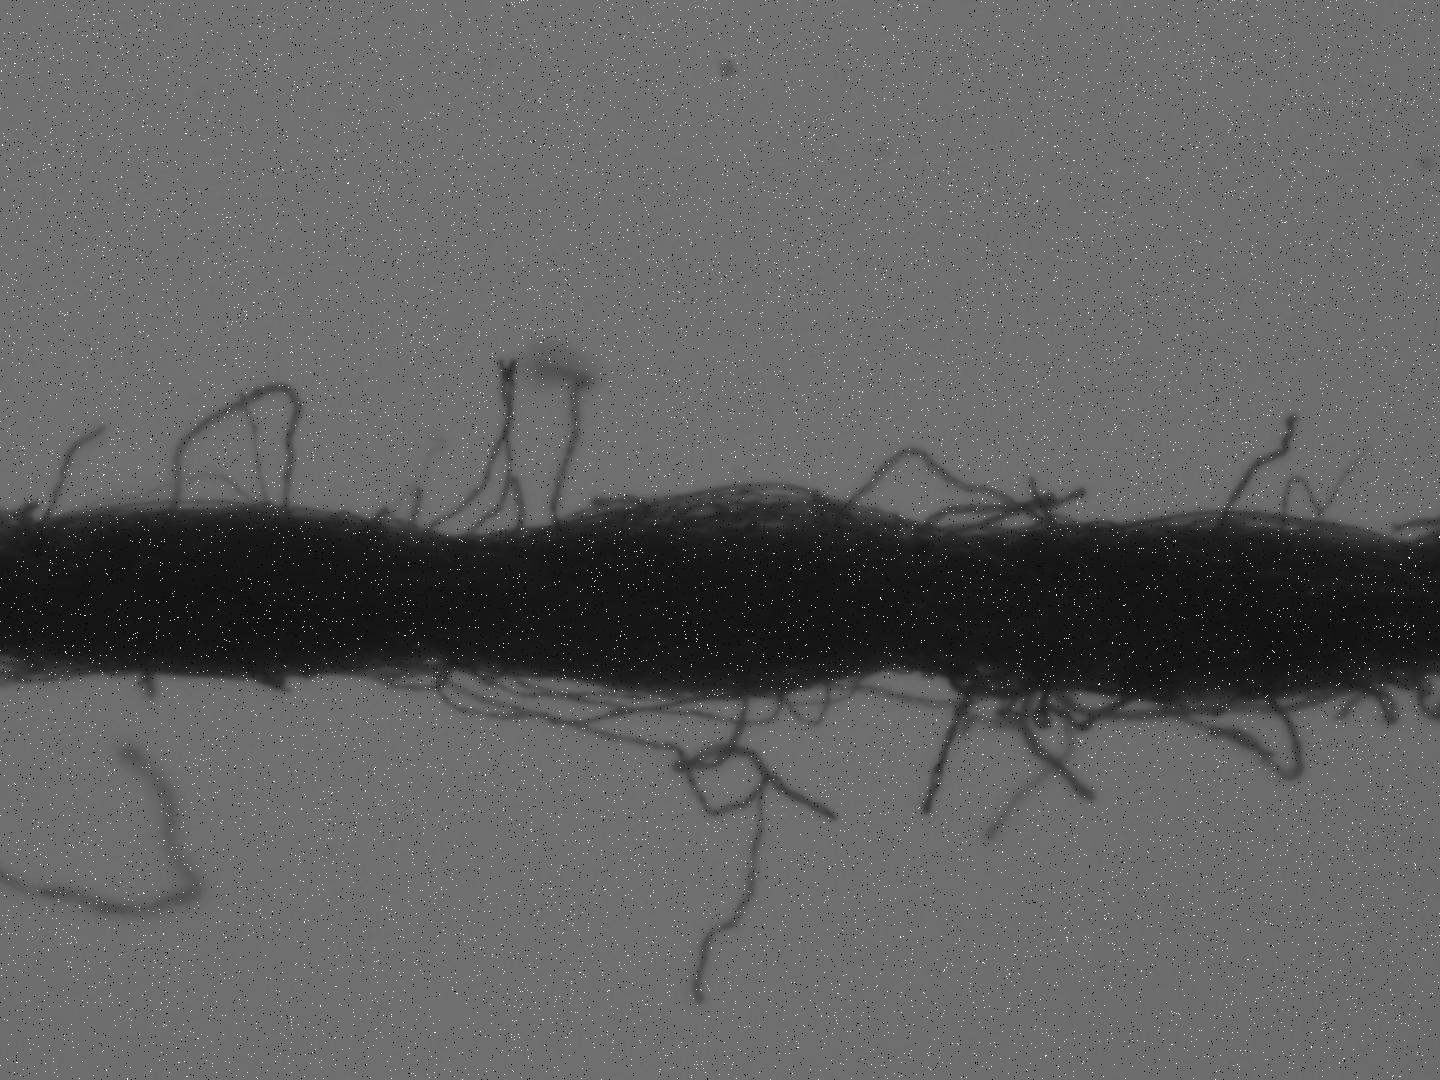loop_fiber: (815, 444, 1077, 545), (153, 379, 305, 526), (434, 665, 763, 729), (543, 486, 910, 540), (1155, 682, 1305, 787), (1026, 677, 1143, 740), (457, 476, 532, 546), (353, 658, 454, 697), (940, 669, 1033, 706), (776, 682, 831, 733)
protruding_fiber: (1211, 405, 1301, 543)
